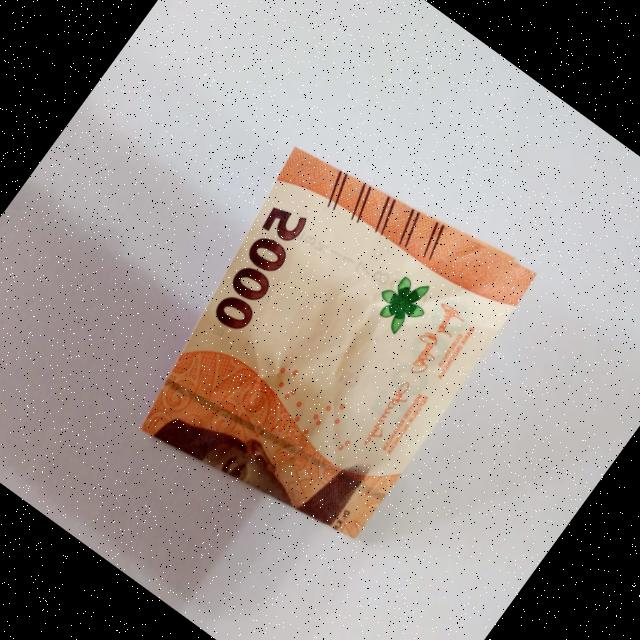5K: (99, 110, 557, 597)
